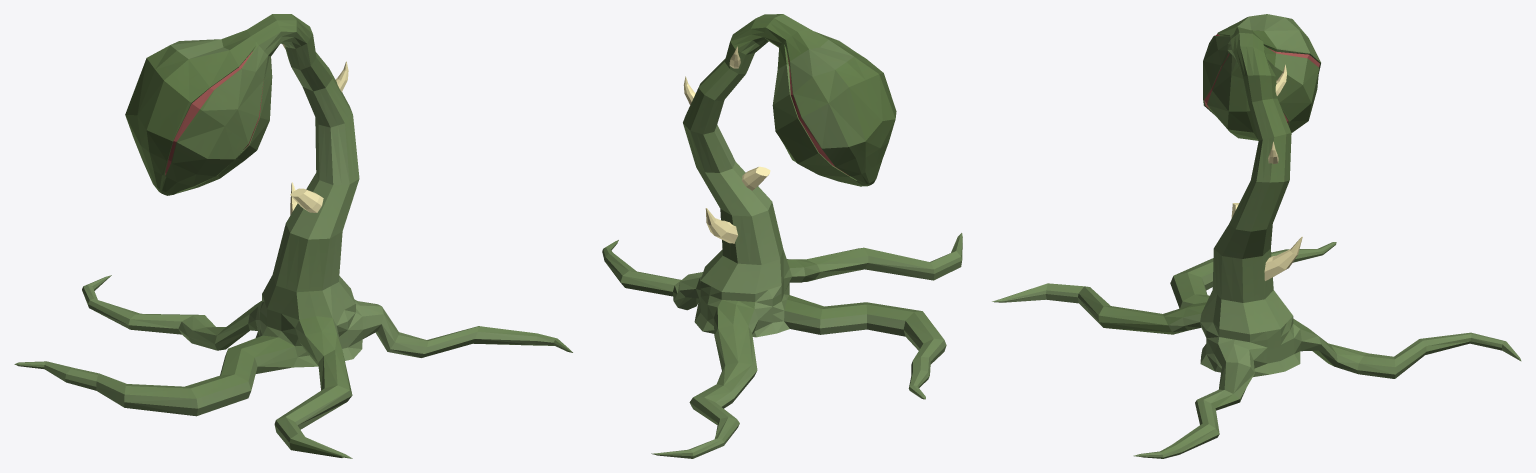
The model's file is carnivorous_plant_1_aobj.obj.
3 renders of one model, left to right at view 1: azimuth 30°, elevation 25°; view 2: azimuth 150°, elevation 25°; view 3: azimuth 270°, elevation 25°, orthographic. The views are drawn at different scales.
Visible parts, largest first — view 1: carnivorous_plant_1_a_Material; view 2: carnivorous_plant_1_a_Material; view 3: carnivorous_plant_1_a_Material.
Boxes of the visible parts, x1,y1,x2,y2 form: carnivorous_plant_1_a_Material: (14, 14, 572, 458); carnivorous_plant_1_a_Material: (602, 14, 962, 458); carnivorous_plant_1_a_Material: (992, 14, 1521, 458).
Bounding box in the file's own units: 3.59 × 2.87 × 4.02.
